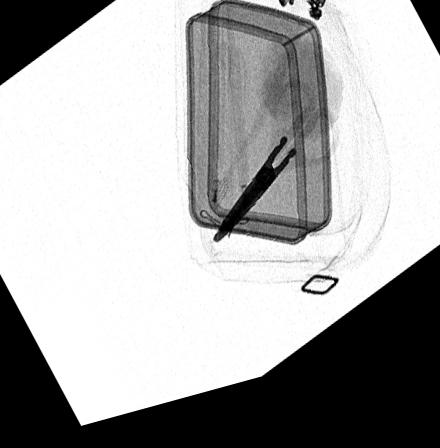Scissors: (212, 92, 340, 255)
